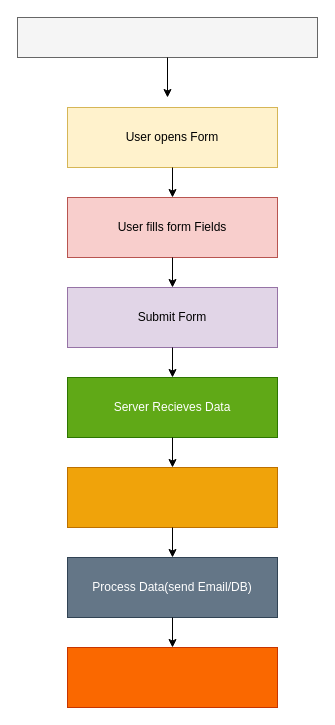
Image size: 335x725. Some labels were removed from this diagram. The shapes that lost their labels are listed below. From the top down, each one's centre as x and y in pixels, then its label:
the point at 167,37: Contact Form
the point at 172,497: Server side validation
the point at 172,677: Send response to Client
